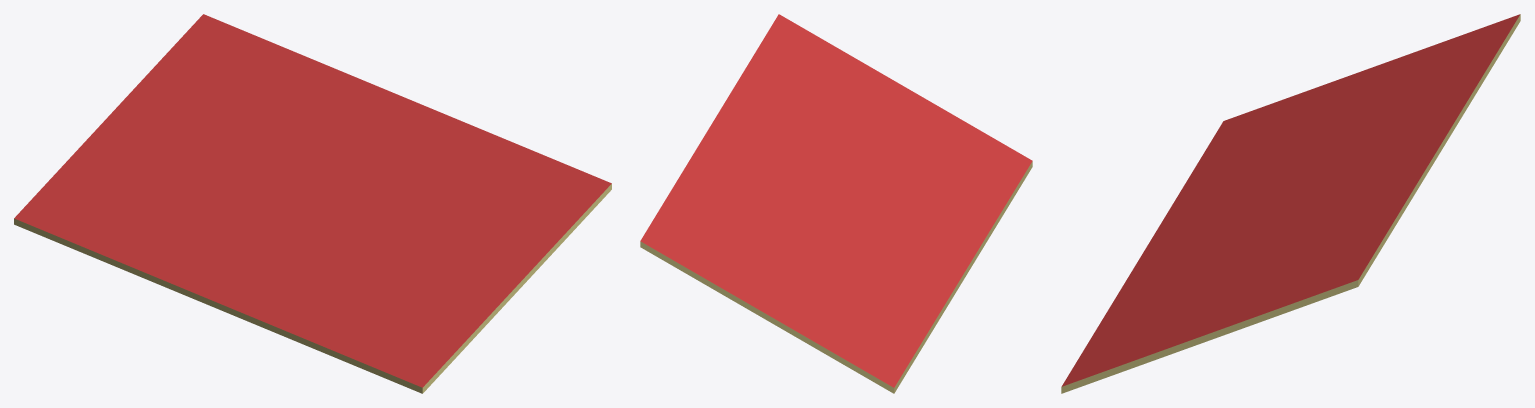
3 renders of one model, left to right at view 1: azimuth 30°, elevation 25°; view 2: azimuth 150°, elevation 25°; view 3: azimuth 330°, elevation 25°, orthographic. The views are drawn at different scales.
Size of the model in its own units: 6.08 by 9.17 by 2.09.
